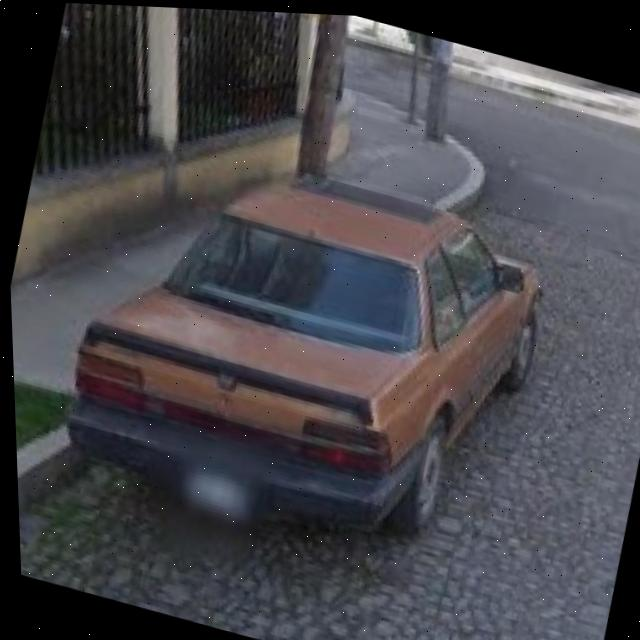vehicle: (45, 130, 561, 583)
